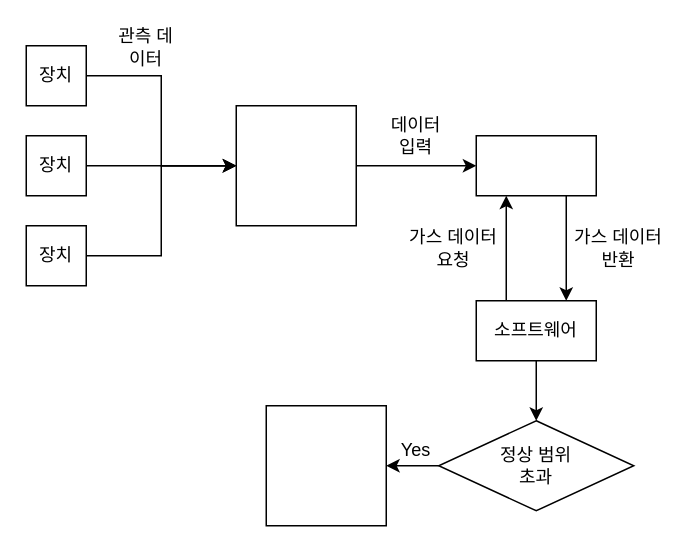
Image size: 698x552. Some labels were removed from this diagram. Each missing label, with the centre of its shape:
"데이터베이스" belongs at point (535, 165).
"펌웨어 (부저)" belongs at point (325, 465).
"펌웨어 (휴대용 단말)" belongs at point (295, 165).
